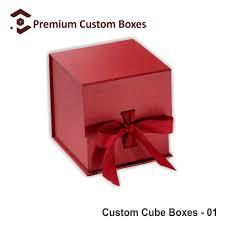cube: (48, 39, 173, 181)
